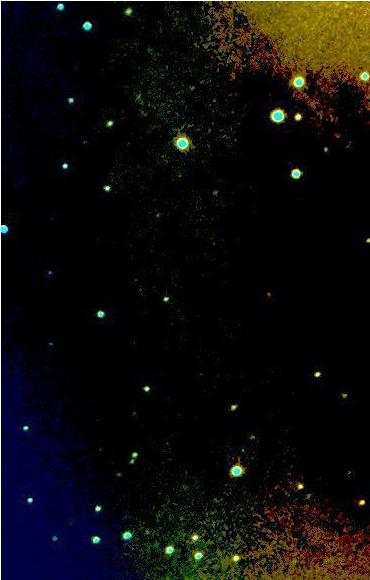star: (348, 489, 370, 519)
